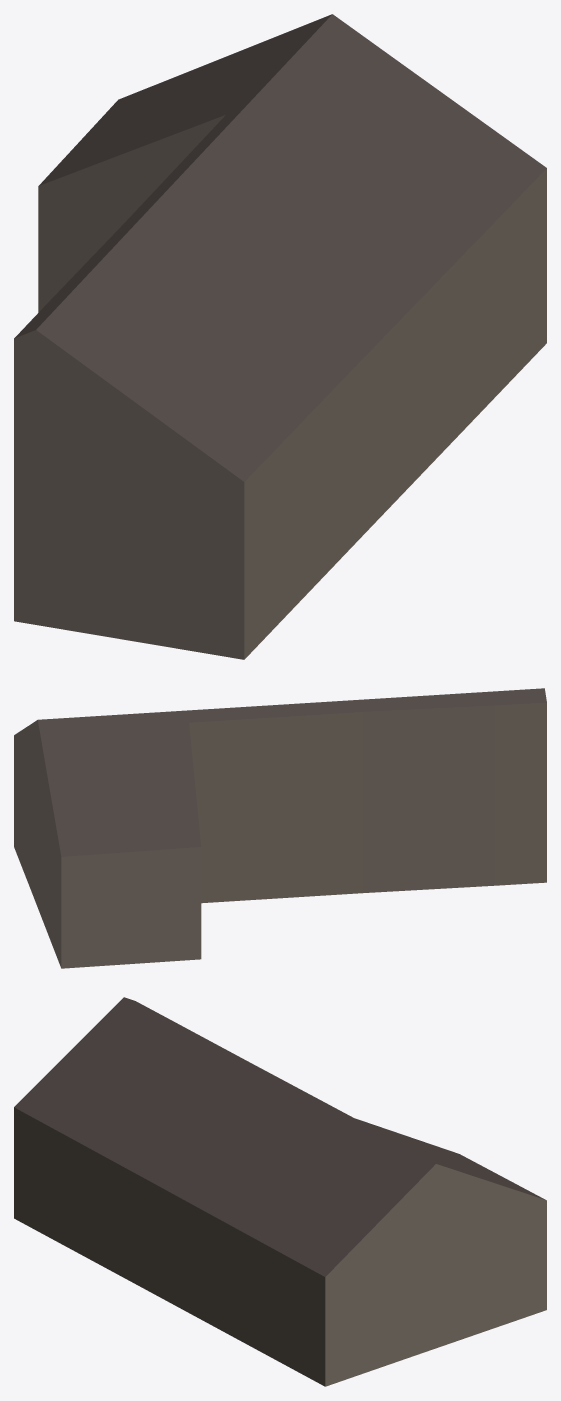
3 views of the same model, one above another, from view 1: azimuth 30°, elevation 25°; view 2: azimuth 150°, elevation 25°; view 3: azimuth 270°, elevation 25° (orthographic). The views are drawn at different scales.
Visible parts, largest first — view 1: HP-w694630313; view 2: HP-w694630313; view 3: HP-w694630313.
Part boxes in pixels (x1=…): HP-w694630313: x1=14, y1=14, x2=546, y2=659; HP-w694630313: x1=14, y1=688, x2=546, y2=968; HP-w694630313: x1=14, y1=997, x2=546, y2=1386.
Bounding box in the file's own units: 24.54 × 10.1 × 26.44.
